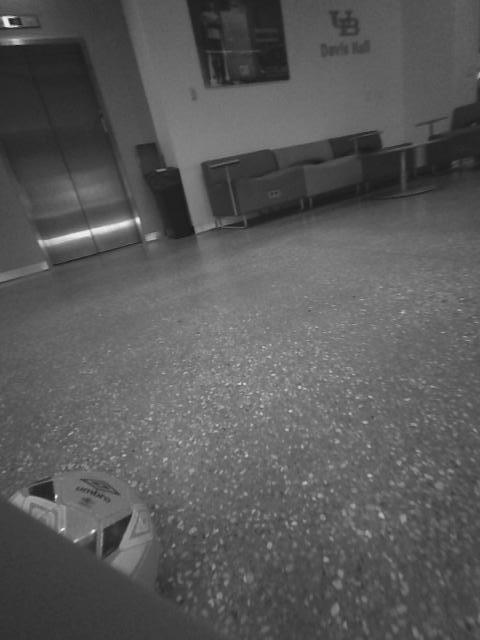ball: (9, 472, 175, 587)
